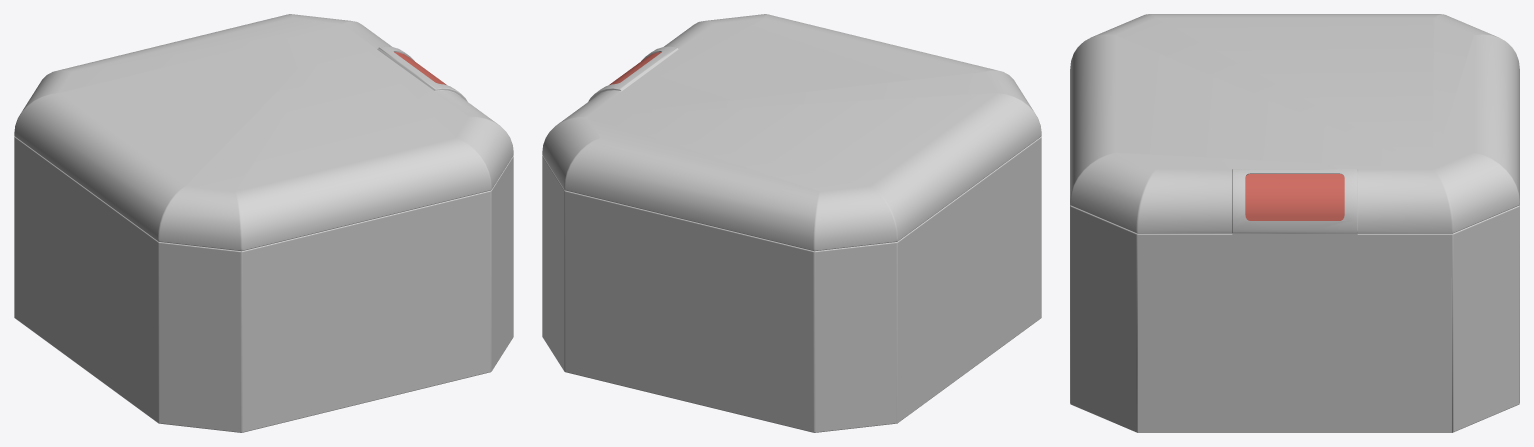
Rendered from B_Middle_Low.fbx.
3 renders of one model, left to right at view 1: azimuth 30°, elevation 25°; view 2: azimuth 150°, elevation 25°; view 3: azimuth 270°, elevation 25°, orthographic. The views are drawn at different scales.
Parts seen in each view (by area): view 1: Cube; view 2: Cube; view 3: Cube.
Boxes of the visible parts, bbox=[...] form: Cube: bbox=[14, 14, 513, 432]; Cube: bbox=[542, 14, 1041, 432]; Cube: bbox=[1070, 14, 1519, 432].
Bounding box in the file's own units: 804 × 482 × 800.
